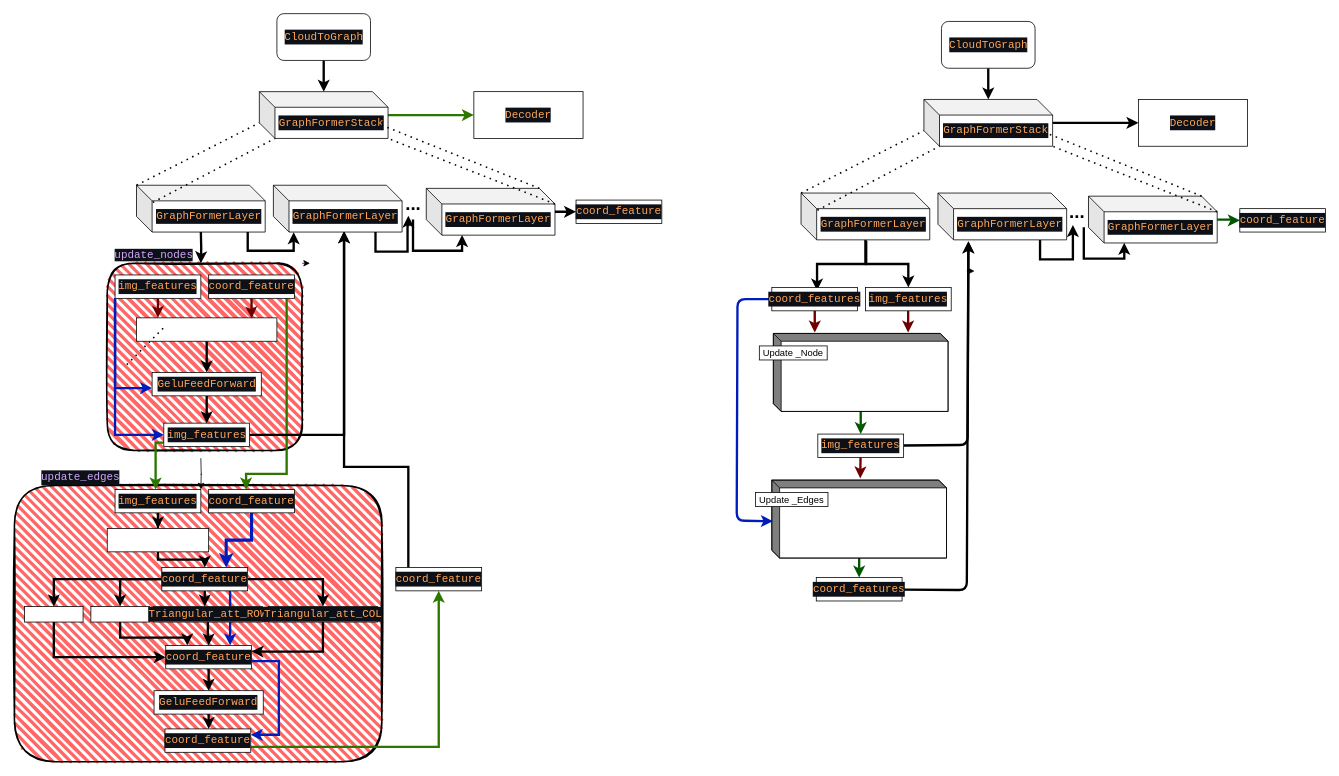
Some shapes in this 1339 by 776 pixel diagram are drawn without their labels. The shapes that lost their labels are listed below. From the top down, each one's centre as x and y in pixels, then its label:
At point 206,329: "PairBiasSelfAttention".
At point 157,540: "ComparisonLayer".
At point 53,614: "MHA_ROW".
At point 119,614: "MHA_COL".
